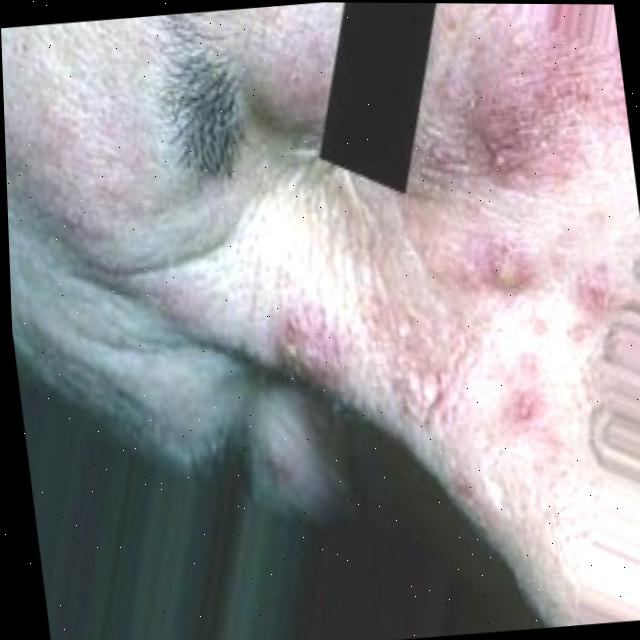Rosacea: (469, 25, 626, 202), (262, 313, 341, 386), (473, 232, 536, 281)
